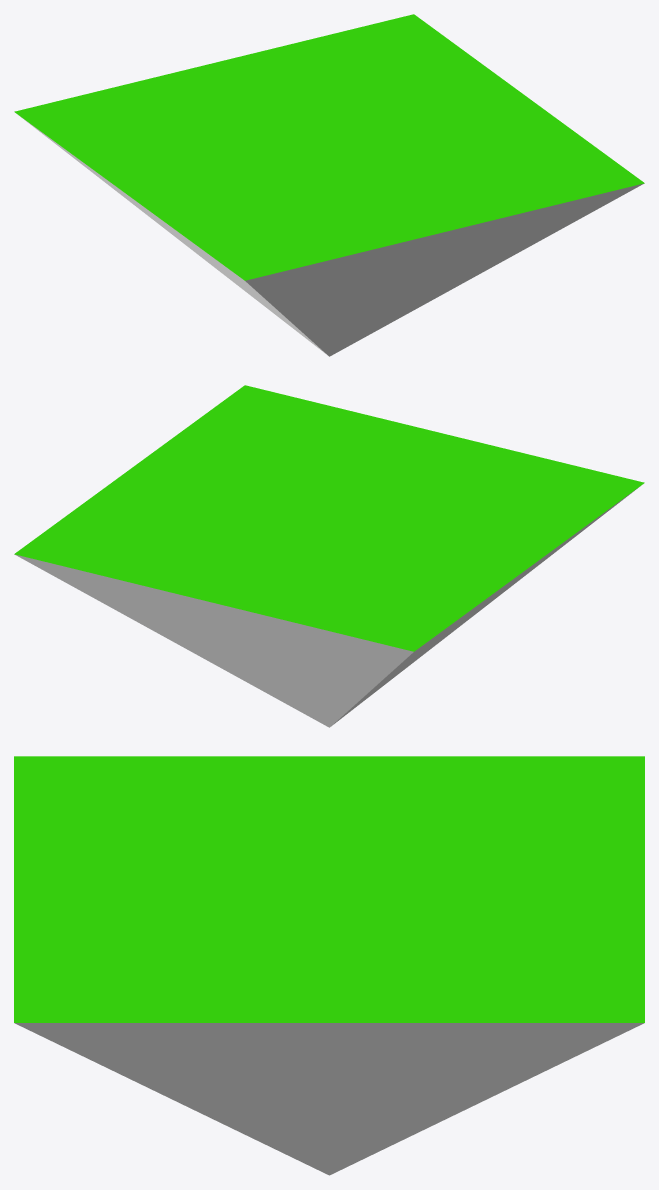
Rendered from CubeIsland.fbx.
3 views of the same model, one above another, from view 1: azimuth 30°, elevation 25°; view 2: azimuth 150°, elevation 25°; view 3: azimuth 270°, elevation 25° (orthographic). The views are drawn at different scales.
Visible parts, largest first — view 1: CubeIsland; view 2: CubeIsland; view 3: CubeIsland.
Boxes of the visible parts, x1,y1,x2,y2 form: CubeIsland: (14,14,644,356); CubeIsland: (14,385,644,727); CubeIsland: (14,756,644,1175).
Size of the model in its own units: 30 by 15 by 30.
